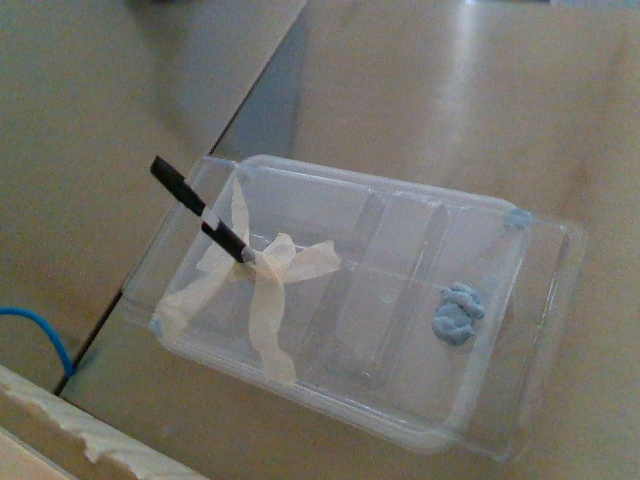test_strip: (148, 152, 220, 230)
